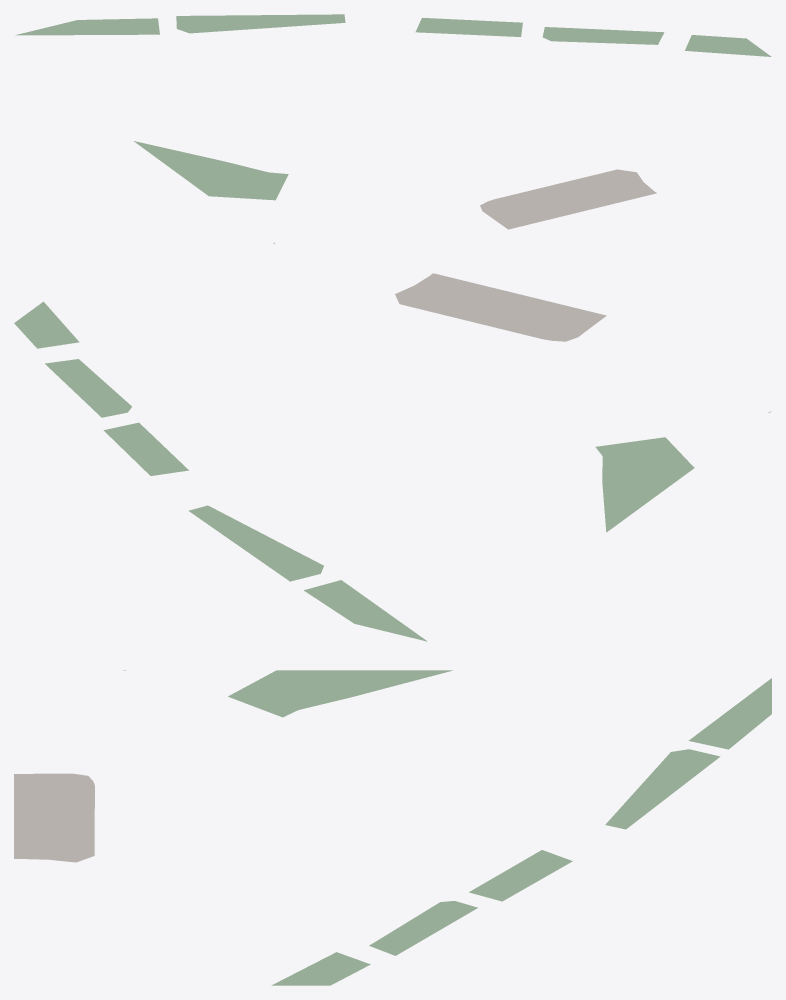
Rendered from 126_69_mid.glb.
The picture shows the model from 3 angles, top to bottom: view 1: azimuth 30°, elevation 25°; view 2: azimuth 150°, elevation 25°; view 3: azimuth 270°, elevation 25°; orthographic projection. The views are drawn at different scales.
Size of the model in its own units: 500 by 3.56 by 500.
